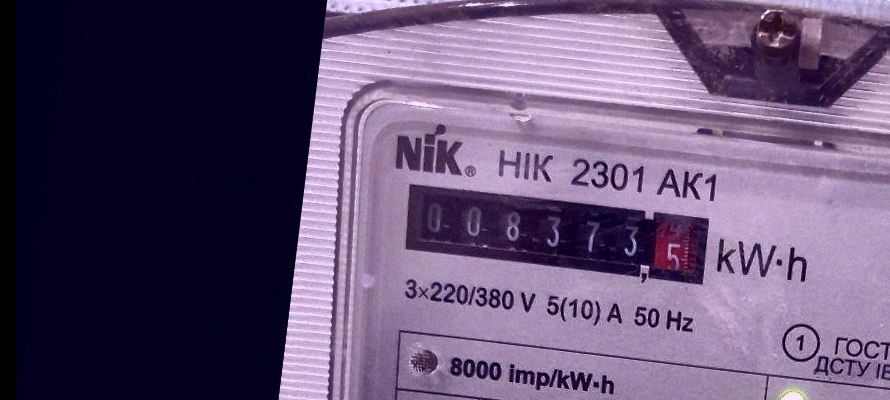0: (422, 198, 446, 236), (462, 202, 485, 240)
3: (540, 211, 566, 250), (618, 221, 644, 260)
4: (665, 218, 686, 240)
5: (663, 239, 685, 271)
7: (580, 215, 602, 256)
8: (501, 206, 526, 245)
screen: (395, 174, 720, 299)
